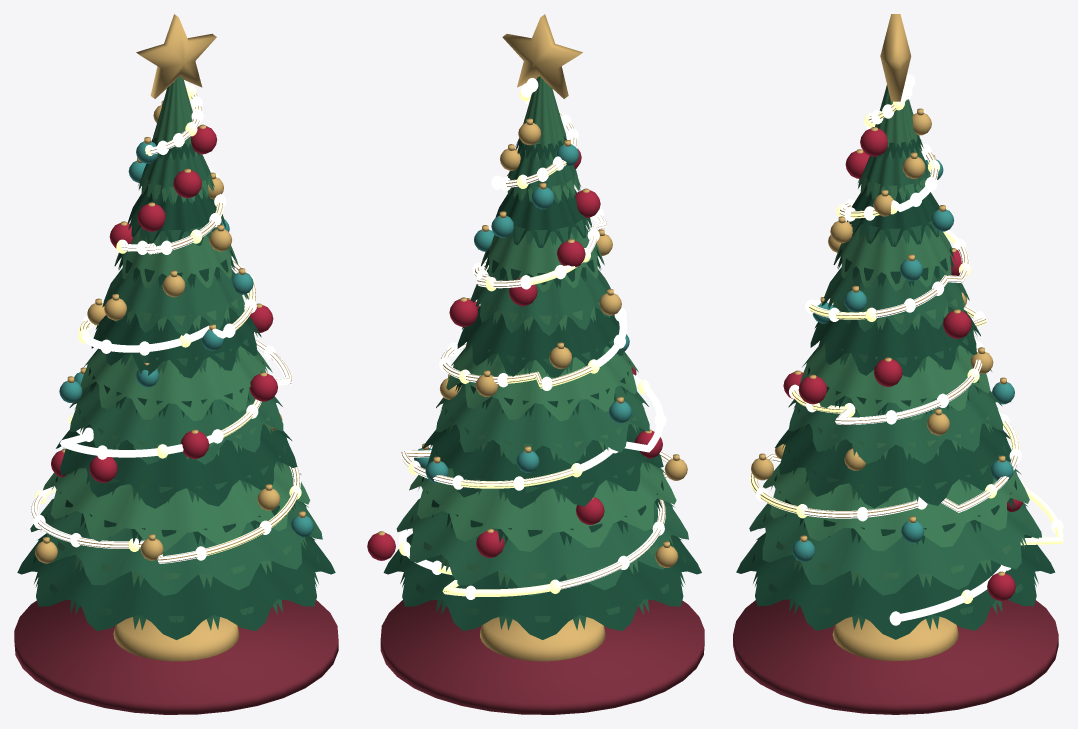
The model's file is christmas-tree.glb.
The picture shows the model from 3 angles, left to right: view 1: azimuth 30°, elevation 25°; view 2: azimuth 150°, elevation 25°; view 3: azimuth 270°, elevation 25°; orthographic projection.
Parts seen in each view (by area): view 1: Tree / Pine deep, Tree / Pine fern, Tree / Pine tips, Tree / Burgundy tree skirt, Tree / Brushed champagne gold, Tree / Cranberry lacquer, Tree / TreeLights_2, Tree / TreeLights_0, Tree / TreeLights_1, Tree / Teal lacquer, Tree / Light strip backing; view 2: Tree / Pine deep, Tree / Pine fern, Tree / Pine tips, Tree / Burgundy tree skirt, Tree / Brushed champagne gold, Tree / Cranberry lacquer, Tree / TreeLights_1, Tree / TreeLights_2, Tree / TreeLights_0, Tree / Teal lacquer, Tree / Light strip backing; view 3: Tree / Pine deep, Tree / Pine fern, Tree / Burgundy tree skirt, Tree / Pine tips, Tree / Brushed champagne gold, Tree / Cranberry lacquer, Tree / TreeLights_0, Tree / TreeLights_1, Tree / TreeLights_2, Tree / Teal lacquer, Tree / Light strip backing.
Part boxes in pixels (bbox=[...]): Tree / Pine deep: bbox=[17, 137, 335, 639]; Tree / Pine fern: bbox=[30, 150, 322, 630]; Tree / Pine tips: bbox=[41, 76, 310, 587]; Tree / Burgundy tree skirt: bbox=[14, 599, 338, 714]; Tree / Brushed champagne gold: bbox=[35, 14, 305, 661]; Tree / Cranberry lacquer: bbox=[51, 126, 277, 482]; Tree / TreeLights_2: bbox=[31, 80, 300, 560]; Tree / TreeLights_0: bbox=[70, 96, 271, 563]; Tree / TreeLights_1: bbox=[35, 84, 301, 555]; Tree / Teal lacquer: bbox=[59, 141, 313, 537]; Tree / Light strip backing: bbox=[31, 94, 299, 563]; Tree / Pine deep: bbox=[383, 136, 701, 639]; Tree / Pine fern: bbox=[396, 147, 688, 630]; Tree / Pine tips: bbox=[407, 76, 676, 588]; Tree / Burgundy tree skirt: bbox=[380, 599, 704, 714]; Tree / Brushed champagne gold: bbox=[378, 14, 687, 661]; Tree / Cranberry lacquer: bbox=[367, 148, 662, 560]; Tree / TreeLights_1: bbox=[399, 91, 650, 596]; Tree / TreeLights_2: bbox=[431, 83, 664, 589]; Tree / TreeLights_0: bbox=[399, 78, 672, 599]; Tree / Teal lacquer: bbox=[414, 144, 631, 483]; Tree / Light strip backing: bbox=[401, 113, 671, 591]; Tree / Pine deep: bbox=[736, 135, 1055, 639]; Tree / Pine fern: bbox=[749, 145, 1041, 629]; Tree / Burgundy tree skirt: bbox=[733, 599, 1058, 714]; Tree / Pine tips: bbox=[762, 85, 1029, 587]; Tree / Brushed champagne gold: bbox=[751, 14, 1006, 661]; Tree / Cranberry lacquer: bbox=[783, 128, 1023, 601]; Tree / TreeLights_0: bbox=[755, 74, 1063, 625]; Tree / TreeLights_1: bbox=[750, 97, 1063, 603]; Tree / TreeLights_2: bbox=[789, 84, 1021, 570]; Tree / Teal lacquer: bbox=[792, 159, 1014, 561]; Tree / Light strip backing: bbox=[751, 105, 1018, 517].
Size of the model in its own units: 1.26 by 2.7 by 1.28.
